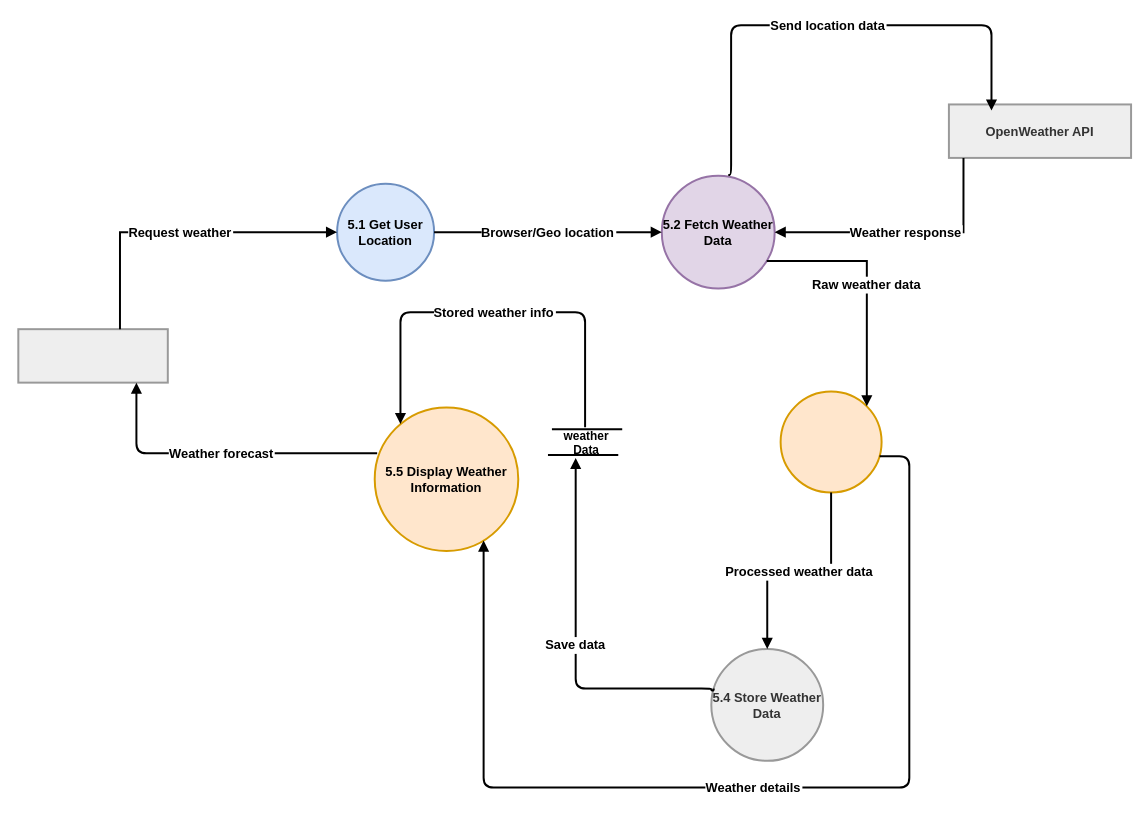
This 1148x813 diagram has some shape labels left out. The shapes that lost their labels are listed below. From the top down, each one's box as (x1, y1, x2, y2) in pixels, then its label:
(17, 328, 168, 383): Farmer/User
(779, 390, 882, 493): 5.3 Process Weather Data
